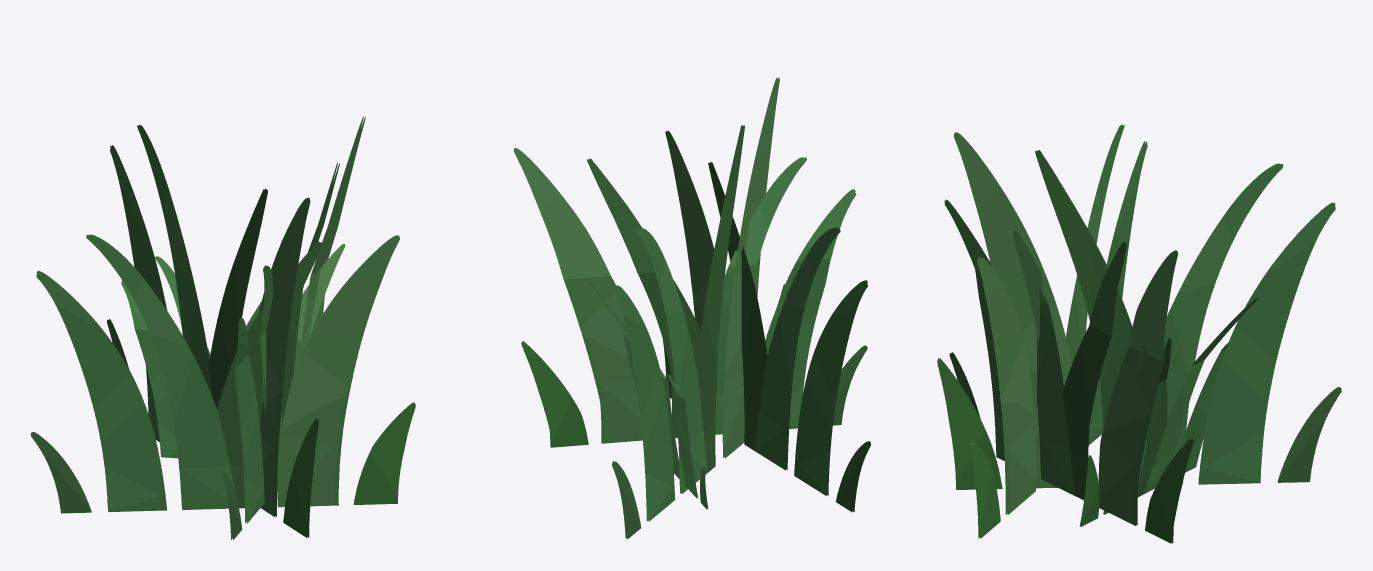
File: Grass3.fbx
3 renders of one model, left to right at view 1: azimuth 30°, elevation 25°; view 2: azimuth 150°, elevation 25°; view 3: azimuth 270°, elevation 25°, orthographic. The views are drawn at different scales.
Visible parts, largest first — view 1: Plane.004; view 2: Plane.004; view 3: Plane.004.
Part boxes in pixels (x1,y1,x2,y2): Plane.004: (30, 116, 415, 540); Plane.004: (513, 77, 870, 539); Plane.004: (937, 124, 1341, 543).
Size of the model in its own units: 84.85 by 80 by 79.91.
